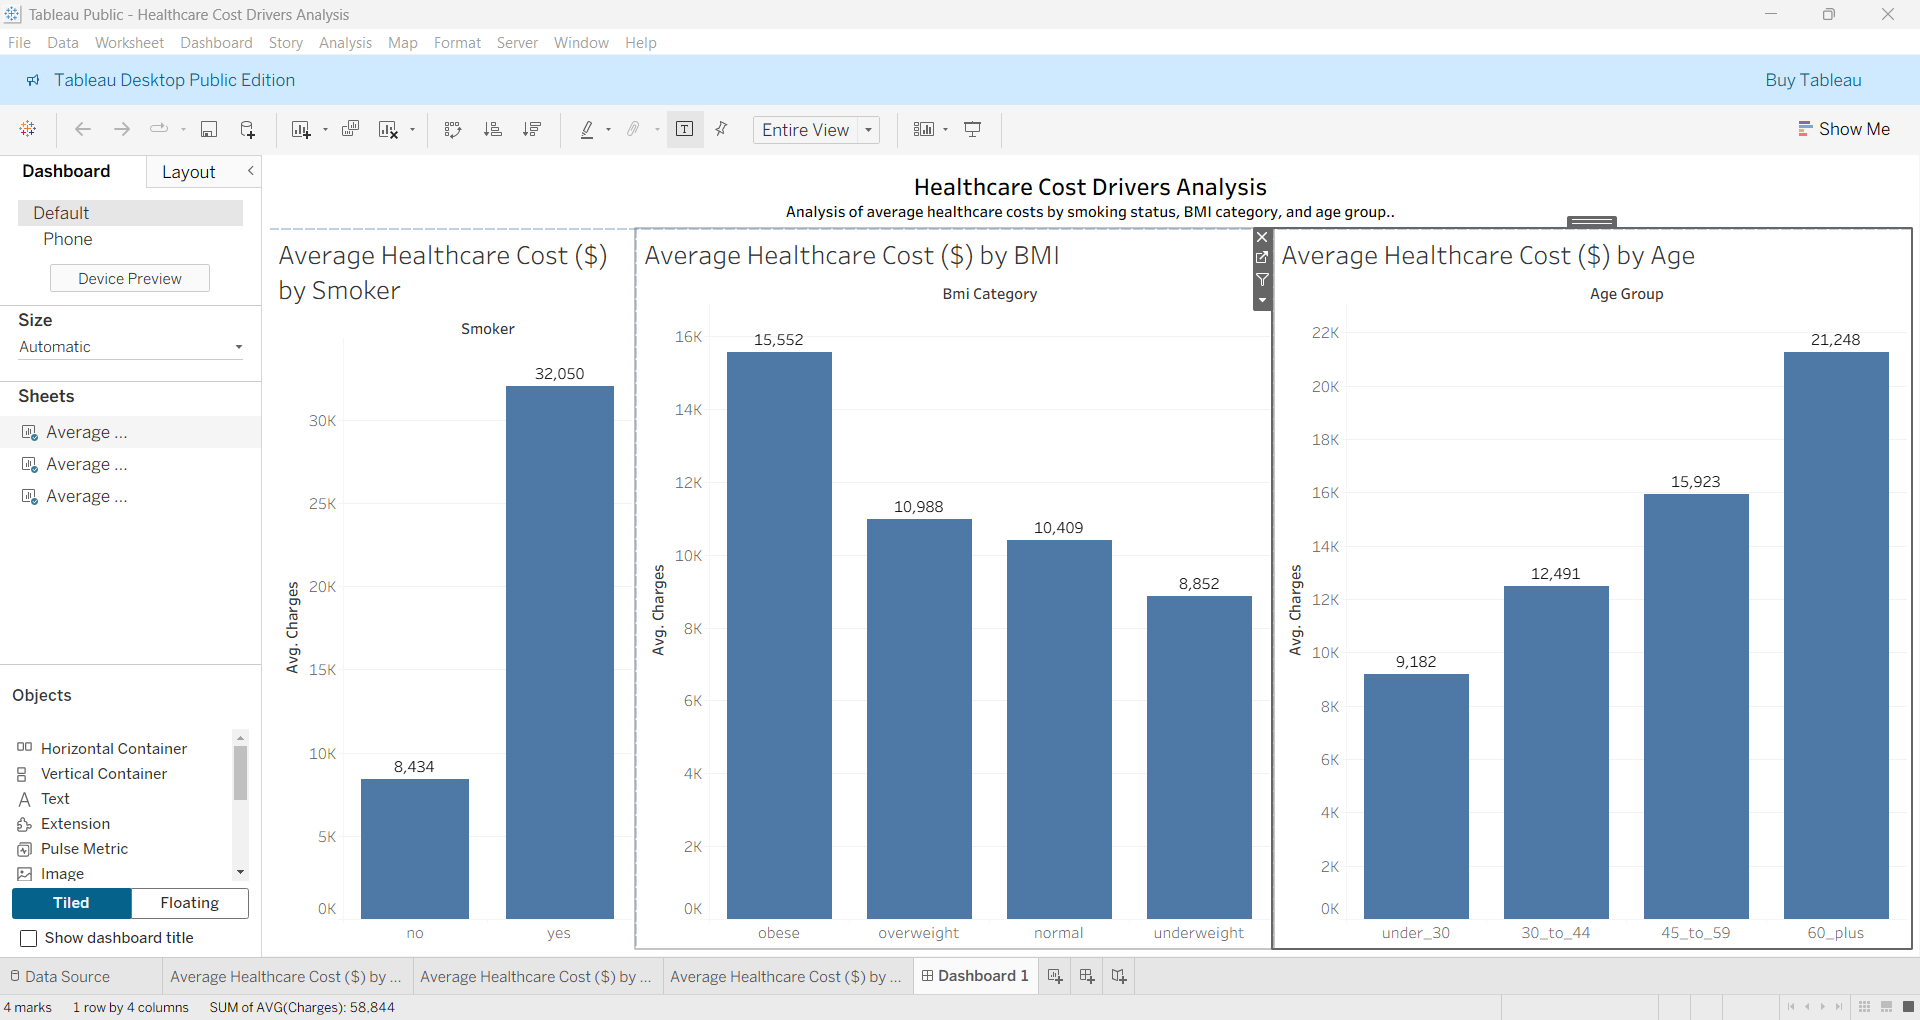

What the dashboard file says about the page in this screenshot:
{"tool":"tableau","page":{"name":"Dashboard 1","canvas":[1000,1000],"units":"permille","ordinal":0},"visuals":[{"type":"text","box":[4.8,10,990.3,82.4]},{"type":"worksheet","title":"Average Healthcare Cost ($) by Smoker","mark":"Bar","rows":["charges"],"cols":["smoker"],"box":[4.8,92.4,220.9,897.6]},{"type":"worksheet","title":"Average Healthcare Cost ($) by BMI","mark":"Bar","rows":["charges"],"cols":["bmi_category"],"box":[225.7,92.4,384.7,897.6]},{"type":"worksheet","title":"Average Healthcare Cost ($) by Age","mark":"Bar","rows":["charges"],"cols":["age_group"],"box":[610.4,92.4,384.7,897.6]}]}

Visuals, with their boxes on the dashboard's canvas, which has no fixed pixel size, in thousandths of its width and height (x1, y1, x2, y2). These are canvas units, not pixel positions in the 1920x1020 screenshot, which may show the page scaled, cropped or inside an application window:
text: 5:10:995:92
"Average Healthcare Cost ($) by Smoker" worksheet (Bar marks): 5:92:226:990
"Average Healthcare Cost ($) by BMI" worksheet (Bar marks): 226:92:610:990
"Average Healthcare Cost ($) by Age" worksheet (Bar marks): 610:92:995:990
